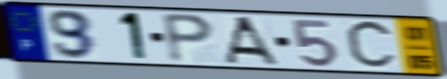1: (114, 10, 149, 63)
5: (289, 18, 342, 68)
9: (44, 8, 100, 61)
A: (223, 15, 282, 68)
C: (343, 18, 398, 73)
P: (160, 11, 217, 65)
